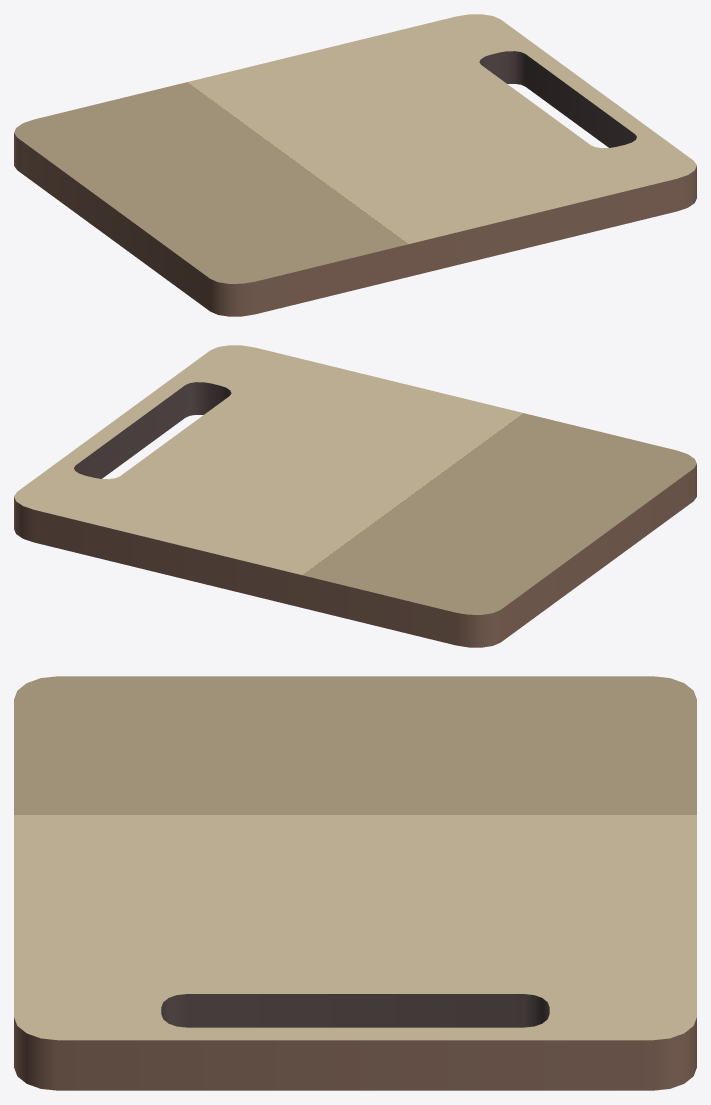
File: tablaDeCortar.fbx
3 views of the same model, one above another, from view 1: azimuth 30°, elevation 25°; view 2: azimuth 150°, elevation 25°; view 3: azimuth 270°, elevation 25° (orthographic). The views are drawn at different scales.
Visible parts, largest first — view 1: tablaDeCortar; view 2: tablaDeCortar; view 3: tablaDeCortar.
Part boxes in pixels (x1,y1,x2,y2): tablaDeCortar: (14, 14, 696, 316); tablaDeCortar: (14, 345, 696, 647); tablaDeCortar: (14, 676, 696, 1090).
Size of the model in its own units: 138 by 8.93 by 110.
